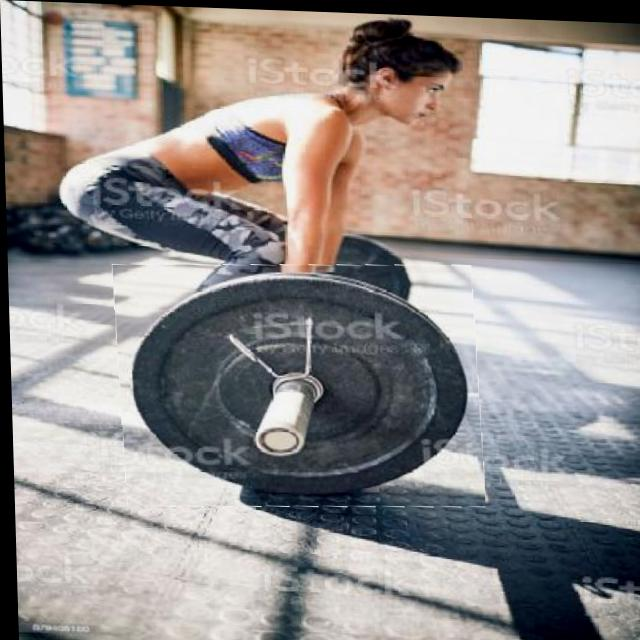barbell: (113, 255, 481, 513)
